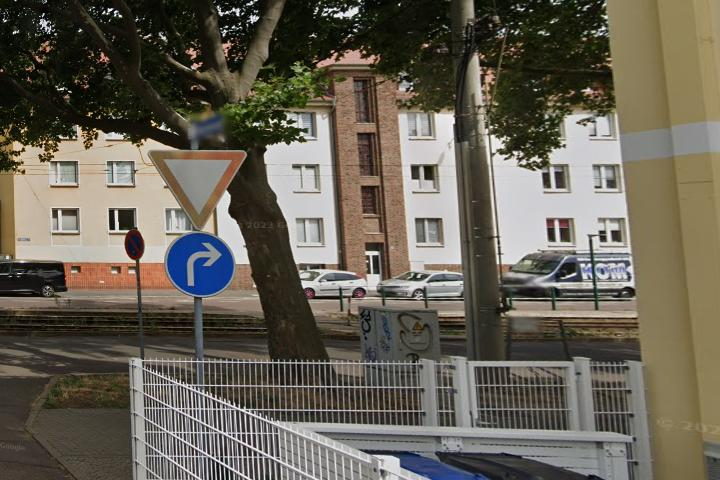traffic_sign: (146, 148, 247, 230), (163, 231, 235, 297), (124, 228, 145, 260)
vehicle: (494, 245, 637, 304), (375, 268, 477, 302), (277, 268, 369, 302)
